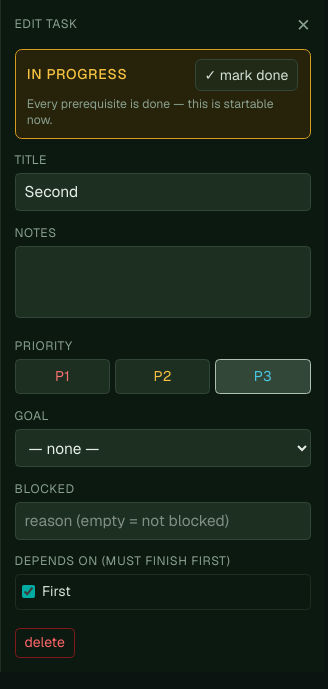
Scenario: Editor › shows the derived status, and only lets you set the done part
Expected: the text "In progress" is shown, [27, 65, 127, 85]
Expected: the text "Every prerequisite is done — this is startable now." is shown, [27, 96, 298, 129]
What coordinates should you click on to do the following:
click the button "✓ mark done"
I would click on:
 (246, 75)
Its box is [194, 59, 298, 91].
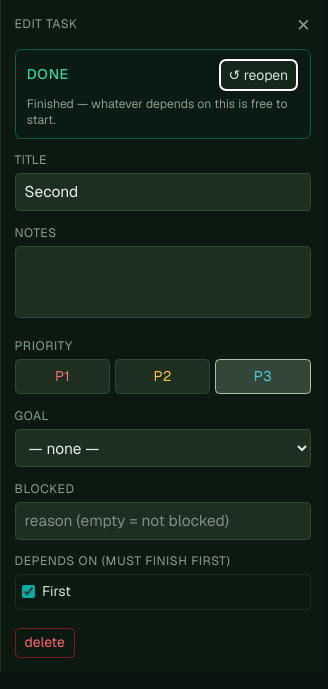
Expected: the text "Done" is shown, [27, 65, 69, 85]
